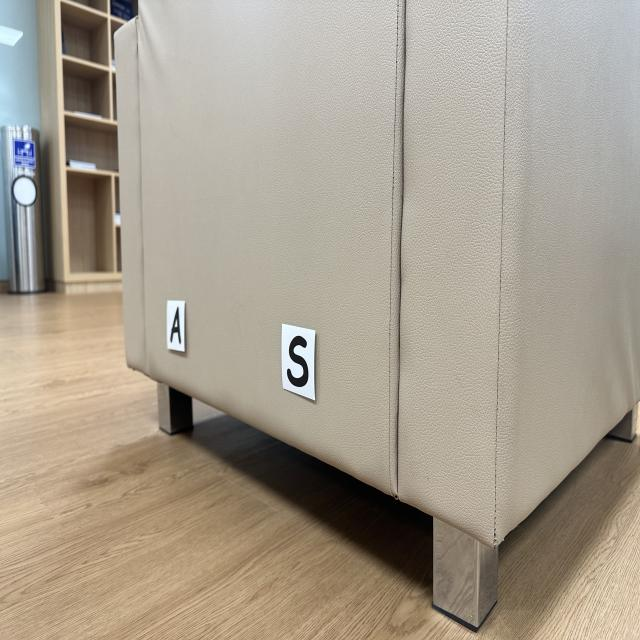A: (170, 307, 181, 343)
S: (288, 335, 309, 387)
